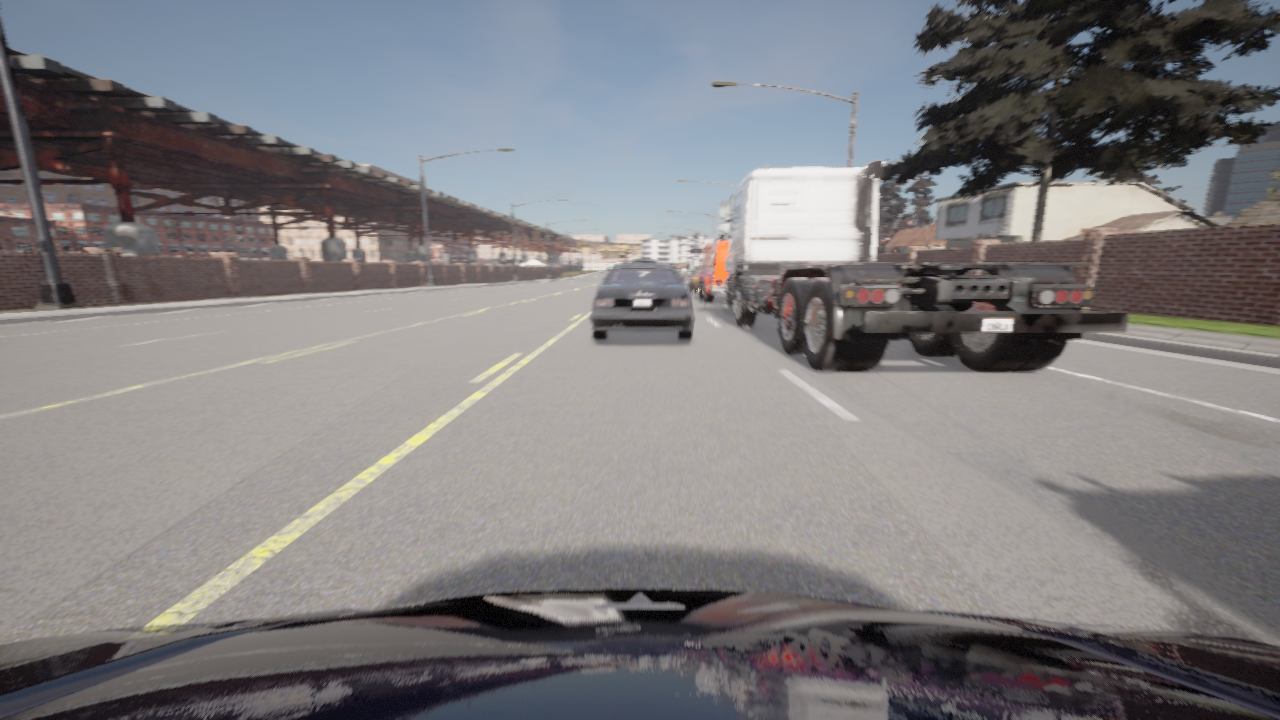cyclist: (0, 588, 1279, 719), (719, 160, 1128, 371), (590, 264, 694, 339), (694, 240, 729, 303), (689, 271, 701, 293), (631, 260, 657, 263), (677, 272, 684, 283)
